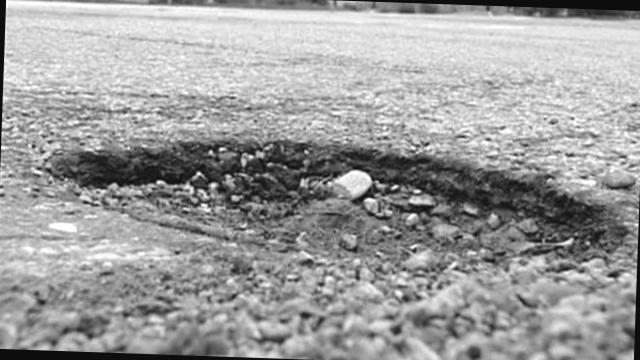Pothole: (28, 129, 639, 304)
